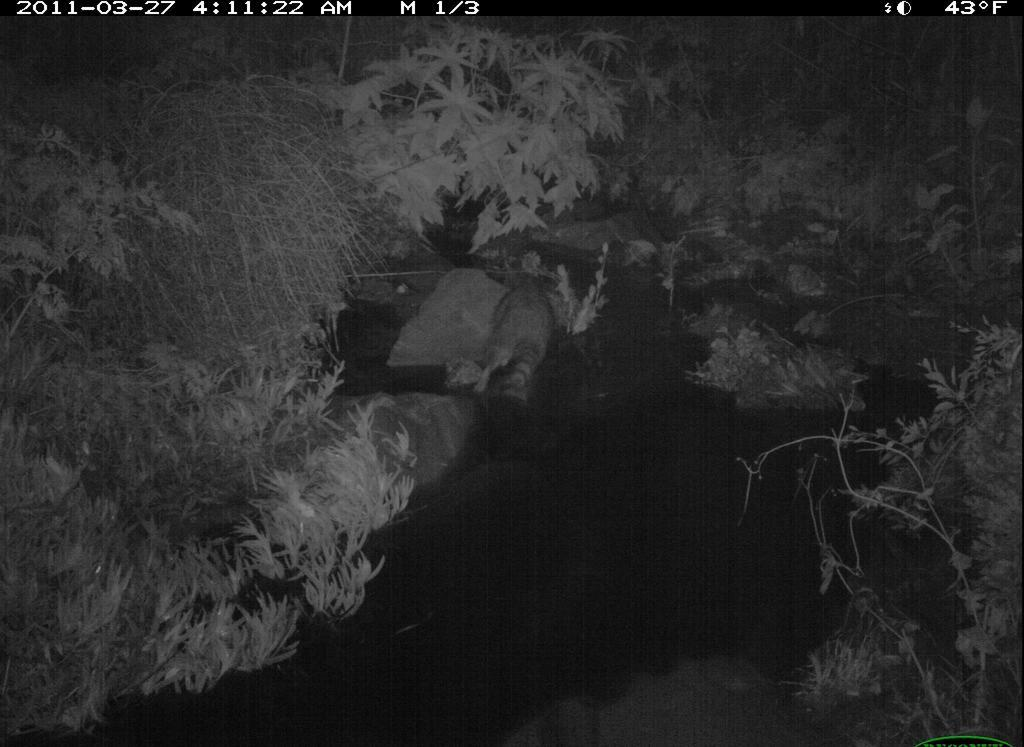raccoon: (459, 262, 574, 427)
